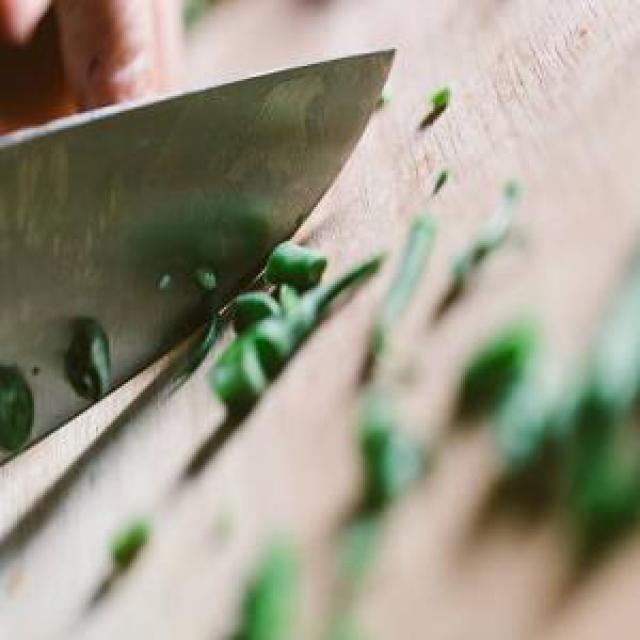knife: (0, 43, 399, 469)
